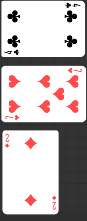2D: (51, 194, 58, 211)
4C: (4, 48, 21, 56)
7H: (4, 113, 21, 120)
